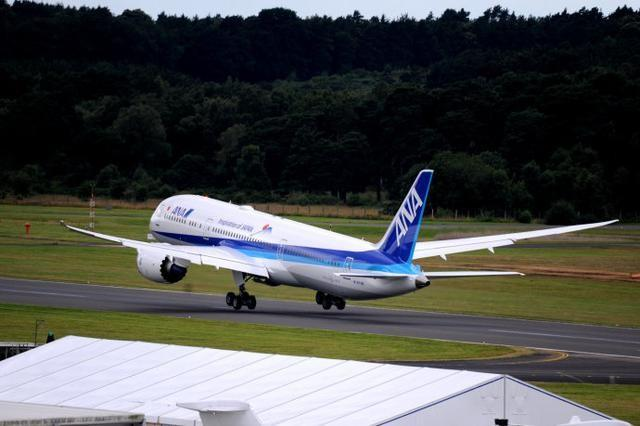airplane: (57, 166, 625, 317)
